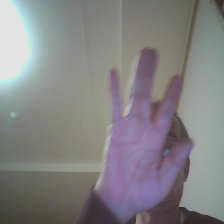hand: (99, 44, 195, 218)
